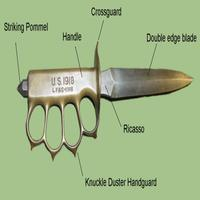knife: (14, 53, 190, 151)
